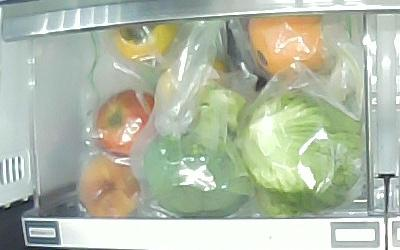apple_vinyl: (95, 89, 155, 156)
broccoli_vinyl: (143, 87, 255, 219)
grapefruit_vinyl: (247, 13, 326, 78)
lettuce_vinyl: (238, 93, 359, 213)
peach_vinyl: (79, 157, 139, 217)
persimmon_vinyl: (115, 21, 178, 62)
